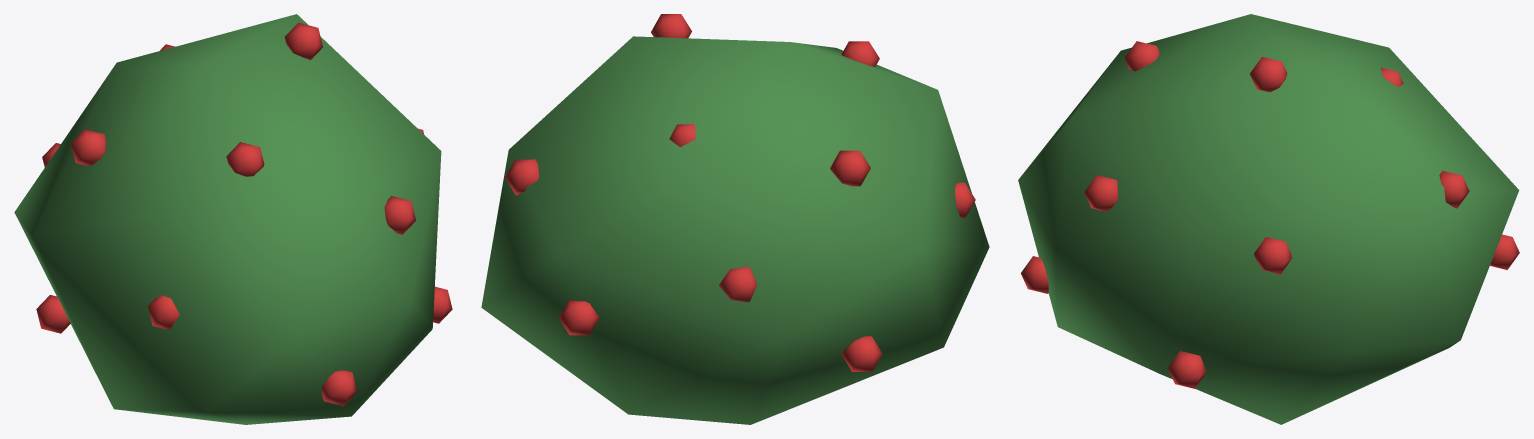
File: Bush-Berry.fbx
3 views of the same model, side by side, from view 1: azimuth 30°, elevation 25°; view 2: azimuth 150°, elevation 25°; view 3: azimuth 270°, elevation 25° (orthographic). The views are drawn at different scales.
Visible parts, largest first — view 1: Bush02, BushBerry02; view 2: Bush02, BushBerry02; view 3: Bush02, BushBerry02.
Boxes of the visible parts, x1,y1,x2,y2 form: Bush02: [14, 14, 441, 424]; BushBerry02: [36, 22, 452, 406]; Bush02: [481, 36, 989, 424]; BushBerry02: [505, 14, 975, 371]; Bush02: [1018, 14, 1519, 424]; BushBerry02: [1021, 41, 1519, 388].
Bounding box in the file's own units: 136 × 122 × 152.
